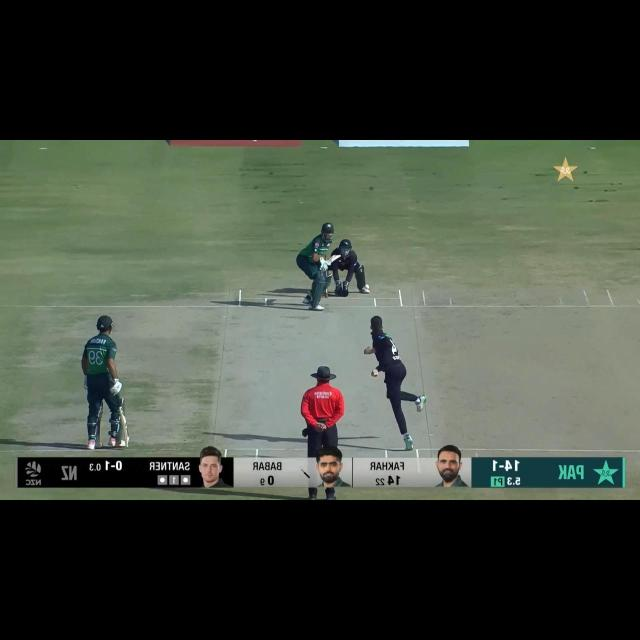bat: (118, 408, 133, 449), (325, 252, 344, 265)
toe: (124, 434, 130, 448), (332, 254, 341, 259)
